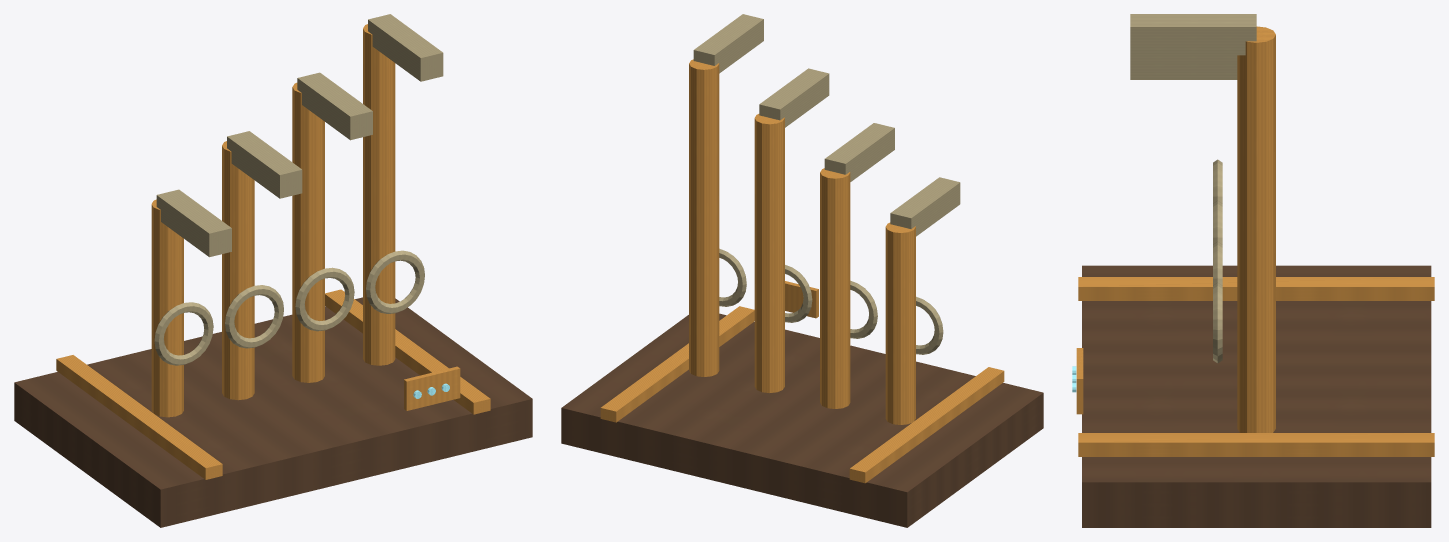
The model's file is atlas100-s019-a01.glb.
The picture shows the model from 3 angles, left to right: view 1: azimuth 30°, elevation 25°; view 2: azimuth 150°, elevation 25°; view 3: azimuth 270°, elevation 25°; orthographic projection. The views are drawn at different scales.
Parts seen in each view (by area): view 1: atlas100-s019-a01:part-000, atlas100-s019-a01:part-012, atlas100-s019-a01:part-009, atlas100-s019-a01:part-006, atlas100-s019-a01:part-003, atlas100-s019-a01:part-001, atlas100-s019-a01:part-014, atlas100-s019-a01:part-008, atlas100-s019-a01:part-011, atlas100-s019-a01:part-005, atlas100-s019-a01:part-002, atlas100-s019-a01:part-015 (+4 smaller); view 2: atlas100-s019-a01:part-000, atlas100-s019-a01:part-012, atlas100-s019-a01:part-009, atlas100-s019-a01:part-006, atlas100-s019-a01:part-003, atlas100-s019-a01:part-001, atlas100-s019-a01:part-002, atlas100-s019-a01:part-011, atlas100-s019-a01:part-014, atlas100-s019-a01:part-005, atlas100-s019-a01:part-008, atlas100-s019-a01:part-015 (+4 smaller); view 3: atlas100-s019-a01:part-000, atlas100-s019-a01:part-012, atlas100-s019-a01:part-002, atlas100-s019-a01:part-001, atlas100-s019-a01:part-014, atlas100-s019-a01:part-008, atlas100-s019-a01:part-005, atlas100-s019-a01:part-011, atlas100-s019-a01:part-013, atlas100-s019-a01:part-015.
Part boxes in pixels (x1,y1,x2,y2): atlas100-s019-a01:part-000: (14, 297, 532, 527); atlas100-s019-a01:part-012: (363, 24, 395, 365); atlas100-s019-a01:part-009: (292, 82, 324, 382); atlas100-s019-a01:part-006: (222, 141, 254, 400); atlas100-s019-a01:part-003: (151, 199, 183, 417); atlas100-s019-a01:part-001: (56, 355, 222, 479); atlas100-s019-a01:part-014: (368, 14, 443, 81); atlas100-s019-a01:part-008: (227, 131, 302, 198); atlas100-s019-a01:part-011: (297, 72, 372, 140); atlas100-s019-a01:part-005: (156, 189, 231, 257); atlas100-s019-a01:part-002: (325, 289, 490, 414); atlas100-s019-a01:part-015: (404, 366, 460, 410); atlas100-s019-a01:part-000: (561, 313, 1043, 527); atlas100-s019-a01:part-012: (689, 59, 719, 376); atlas100-s019-a01:part-009: (754, 114, 784, 392); atlas100-s019-a01:part-006: (820, 168, 850, 408); atlas100-s019-a01:part-003: (885, 222, 915, 424); atlas100-s019-a01:part-001: (849, 367, 1004, 483); atlas100-s019-a01:part-002: (600, 306, 754, 422); atlas100-s019-a01:part-011: (759, 68, 829, 127); atlas100-s019-a01:part-014: (693, 14, 763, 73); atlas100-s019-a01:part-005: (890, 177, 960, 236); atlas100-s019-a01:part-008: (824, 123, 894, 181); atlas100-s019-a01:part-015: (785, 281, 818, 318); atlas100-s019-a01:part-000: (1082, 265, 1431, 527); atlas100-s019-a01:part-012: (1237, 26, 1275, 432); atlas100-s019-a01:part-002: (1078, 433, 1434, 456); atlas100-s019-a01:part-001: (1078, 277, 1434, 300); atlas100-s019-a01:part-014: (1130, 14, 1256, 55); atlas100-s019-a01:part-008: (1130, 63, 1237, 71); atlas100-s019-a01:part-005: (1130, 71, 1237, 79); atlas100-s019-a01:part-011: (1130, 55, 1237, 63); atlas100-s019-a01:part-013: (1213, 282, 1222, 363); atlas100-s019-a01:part-015: (1076, 348, 1083, 414).
Size of the model in its own units: 2.64 by 2.62 by 1.87.
4 materials, 4 textured.
